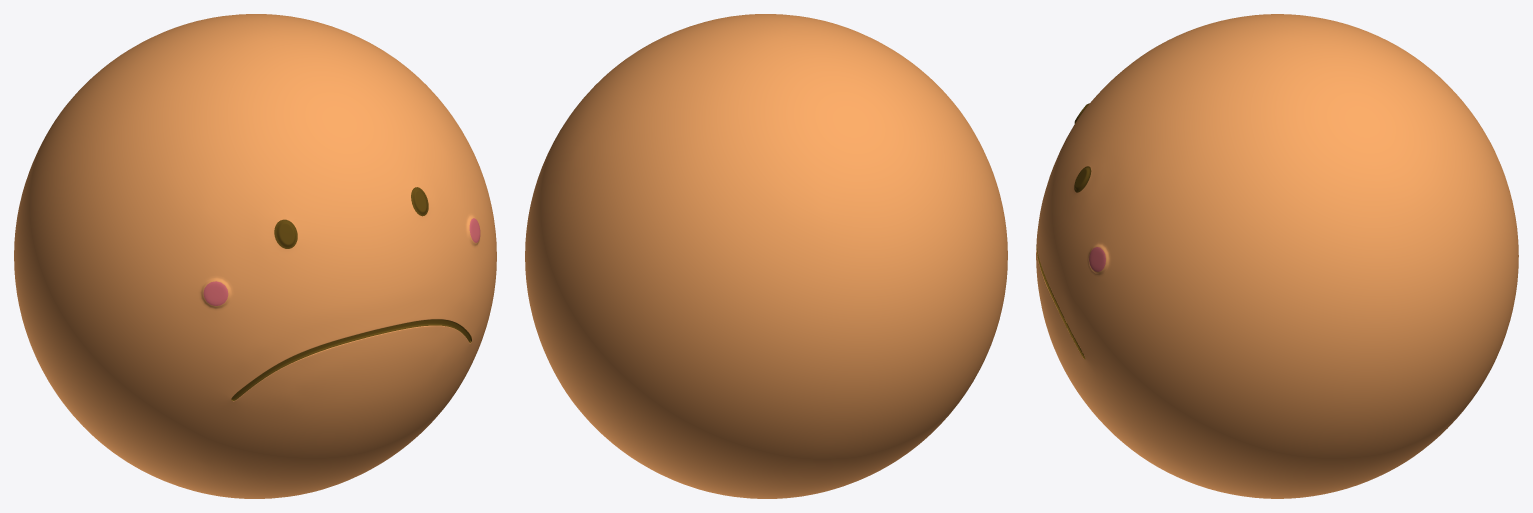
File: sad.fbx
The picture shows the model from 3 angles, left to right: view 1: azimuth 30°, elevation 25°; view 2: azimuth 150°, elevation 25°; view 3: azimuth 270°, elevation 25°; orthographic projection.
Parts seen in each view (by area): view 1: Sad_face_Emoji; view 2: Sad_face_Emoji; view 3: Sad_face_Emoji.
Boxes of the visible parts, left/top/right/bottom form: Sad_face_Emoji: left=14, top=14, right=496, bottom=498; Sad_face_Emoji: left=525, top=14, right=1007, bottom=498; Sad_face_Emoji: left=1036, top=14, right=1518, bottom=498.
Bounding box in the file's own units: 49.24 × 49.65 × 49.24.
